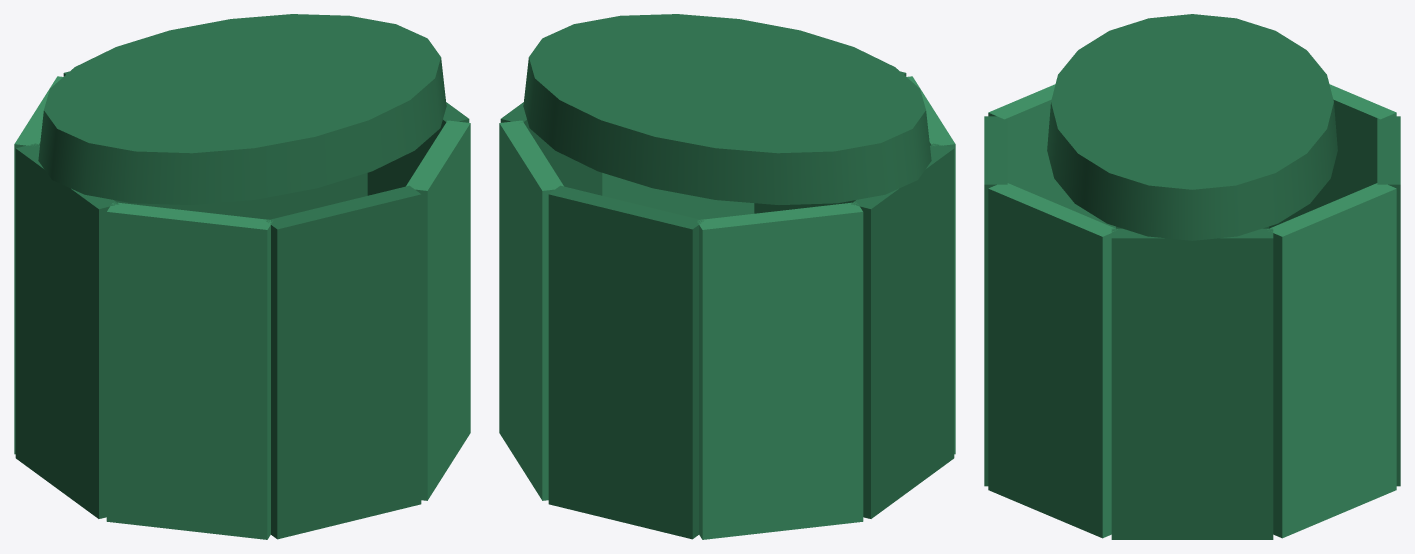
File: bottom_ancient_4.glb
The picture shows the model from 3 angles, left to right: view 1: azimuth 30°, elevation 25°; view 2: azimuth 150°, elevation 25°; view 3: azimuth 270°, elevation 25°; orthographic projection. The views are drawn at different scales.
Size of the model in its own units: 0.4144 by 0.3744 by 0.4032.
